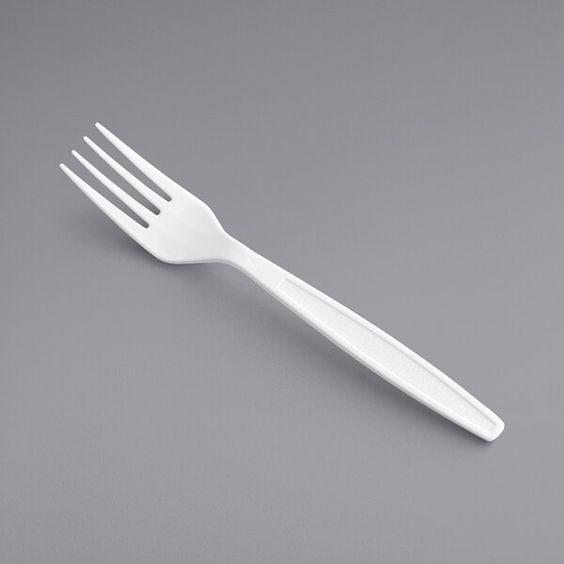PS: (59, 124, 503, 445)
